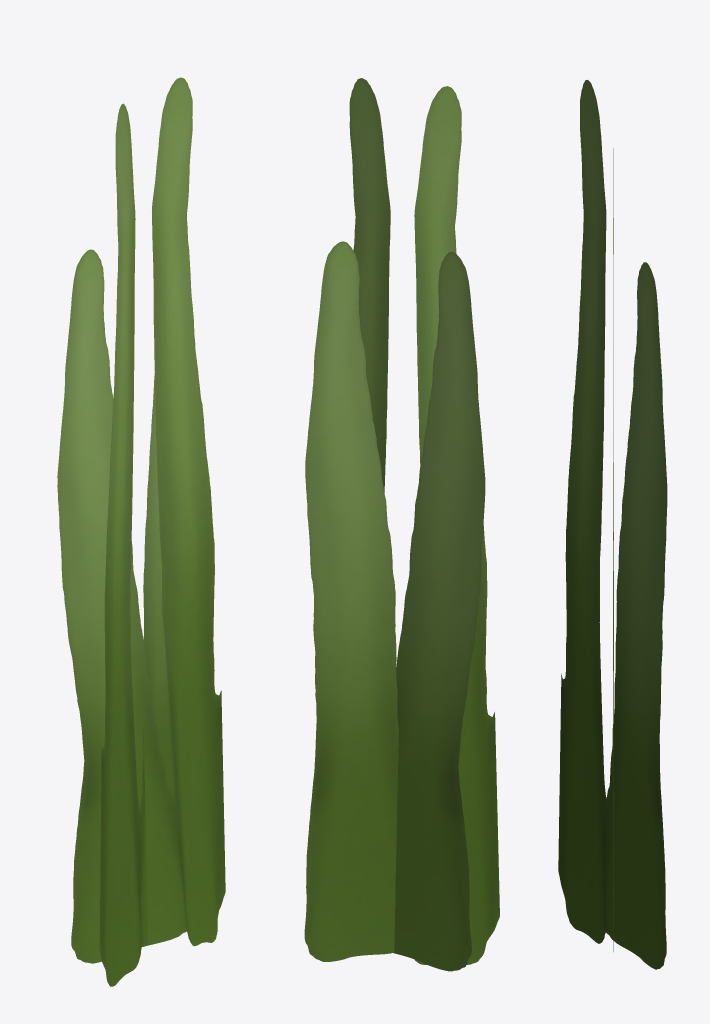
Rendered from grass2.fbx.
3 views of the same model, side by side, from view 1: azimuth 30°, elevation 25°; view 2: azimuth 150°, elevation 25°; view 3: azimuth 270°, elevation 25° (orthographic). The views are drawn at different scales.
Visible parts, largest first — view 1: grass2; view 2: grass2; view 3: grass2.
Part boxes in pixels (box(x1,y1,x2,y2)): grass2: box(57, 77, 225, 986); grass2: box(304, 78, 499, 971); grass2: box(558, 80, 667, 969).
Bounding box in the file's own units: 12.68 × 49.64 × 6.73.
